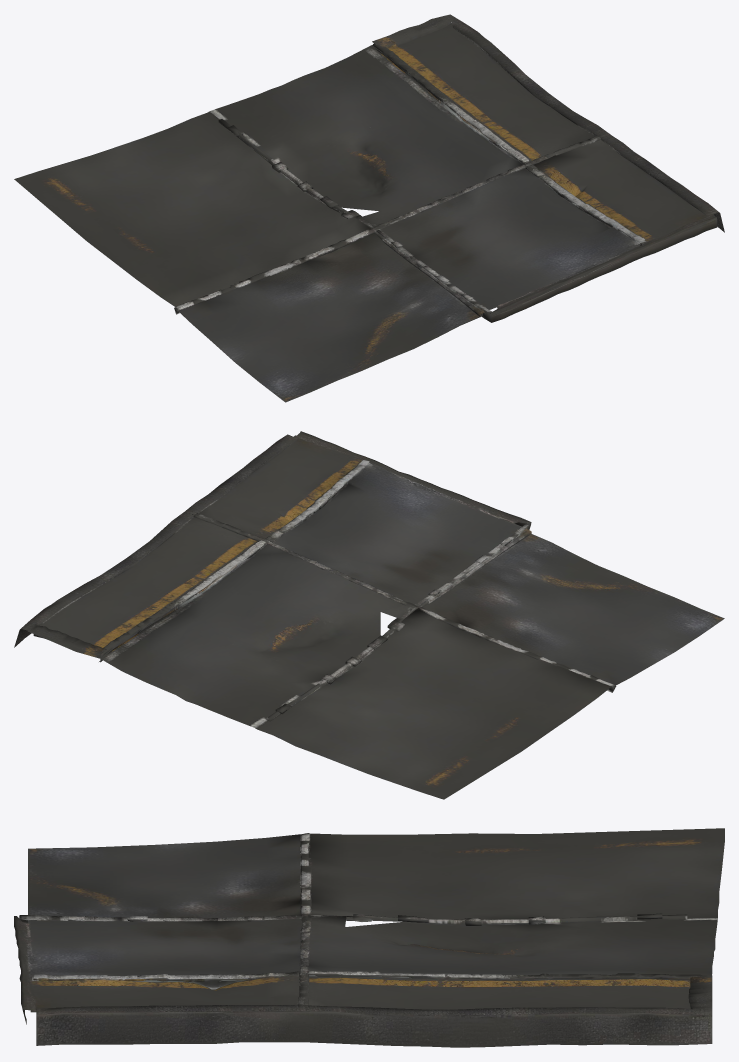
The model's file is selected.glb.
3 renders of one model, top to bottom at view 1: azimuth 30°, elevation 25°; view 2: azimuth 150°, elevation 25°; view 3: azimuth 270°, elevation 25°, orthographic. The views are drawn at different scales.
Parts seen in each view (by area): view 1: tripo_node_94ed3525-58f6-45ca-a5f6-93505837f9af; view 2: tripo_node_94ed3525-58f6-45ca-a5f6-93505837f9af; view 3: tripo_node_94ed3525-58f6-45ca-a5f6-93505837f9af.
Part boxes in pixels (box(x1,y1,x2,y2)): tripo_node_94ed3525-58f6-45ca-a5f6-93505837f9af: box(14, 14, 724, 402); tripo_node_94ed3525-58f6-45ca-a5f6-93505837f9af: box(14, 431, 724, 799); tripo_node_94ed3525-58f6-45ca-a5f6-93505837f9af: box(14, 828, 724, 1047).
Size of the model in its own units: 0.9082 by 0.1621 by 0.998.
Materials: 1 (1 with a texture image).
